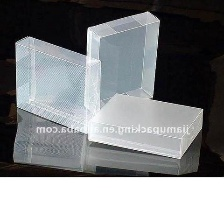plastic_box: (9, 30, 106, 137), (78, 6, 167, 117), (82, 88, 208, 164)
